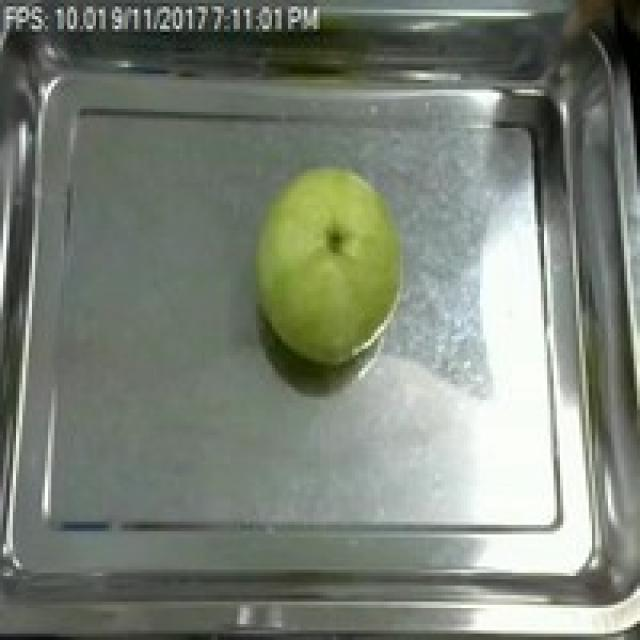Fruit: (243, 157, 416, 374)
